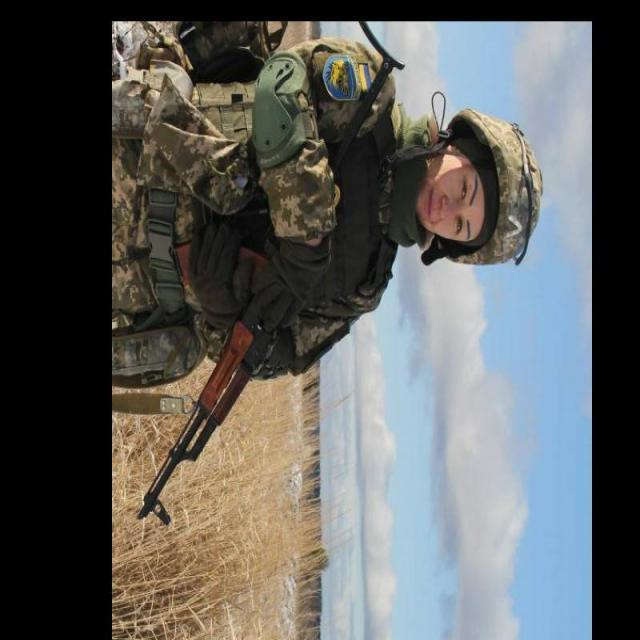weapon: (138, 22, 406, 528)
